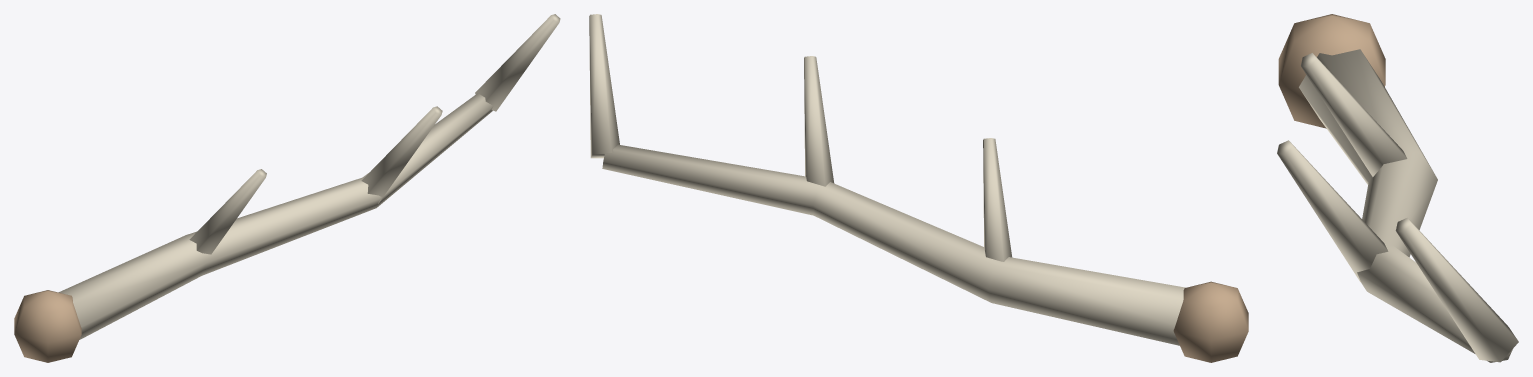
Rendered from ing_shed_antler.gltf.
3 views of the same model, side by side, from view 1: azimuth 30°, elevation 25°; view 2: azimuth 150°, elevation 25°; view 3: azimuth 270°, elevation 25° (orthographic). The views are drawn at different scales.
Visible parts, largest first — view 1: ing_shed_antler; view 2: ing_shed_antler; view 3: ing_shed_antler.
Part boxes in pixels (x1,y1,x2,y2): ing_shed_antler: (14,14,560,362); ing_shed_antler: (589,14,1248,362); ing_shed_antler: (1277,14,1518,362).
Size of what is drawn, in the model's own units: 0.5277 by 0.1779 by 0.1223.
